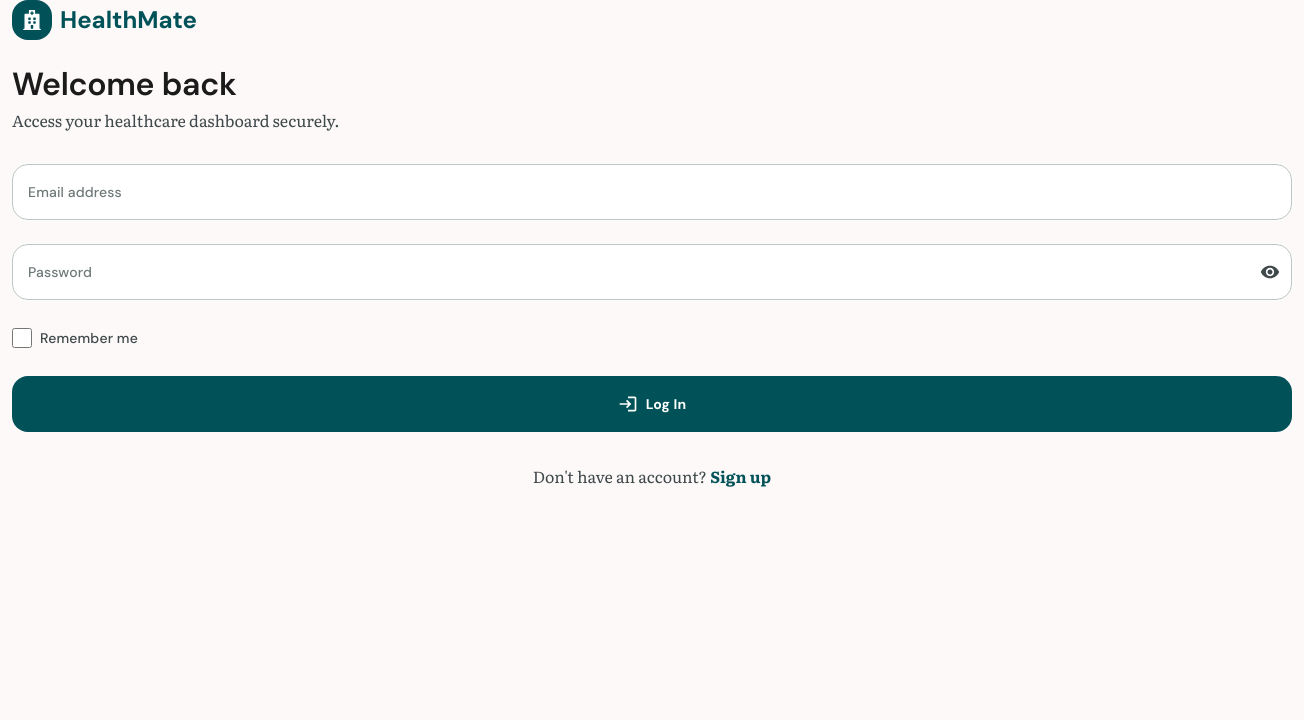
Test: LoginForm › shows validation errors when submitting an empty form
The image size is (1304, 720).
Click the button "Log In" at (652, 404), box left=12, top=376, right=1292, bottom=432
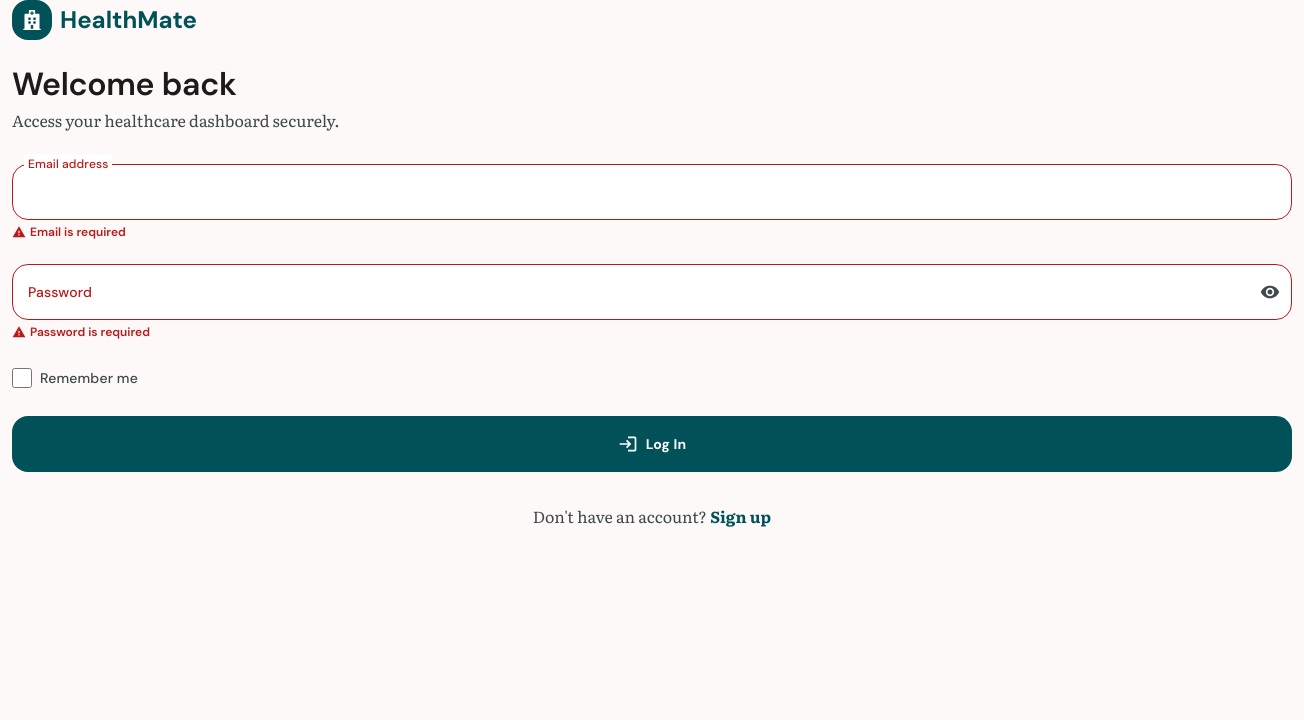
Now the message "Email is required" is shown, box left=12, top=224, right=126, bottom=240
